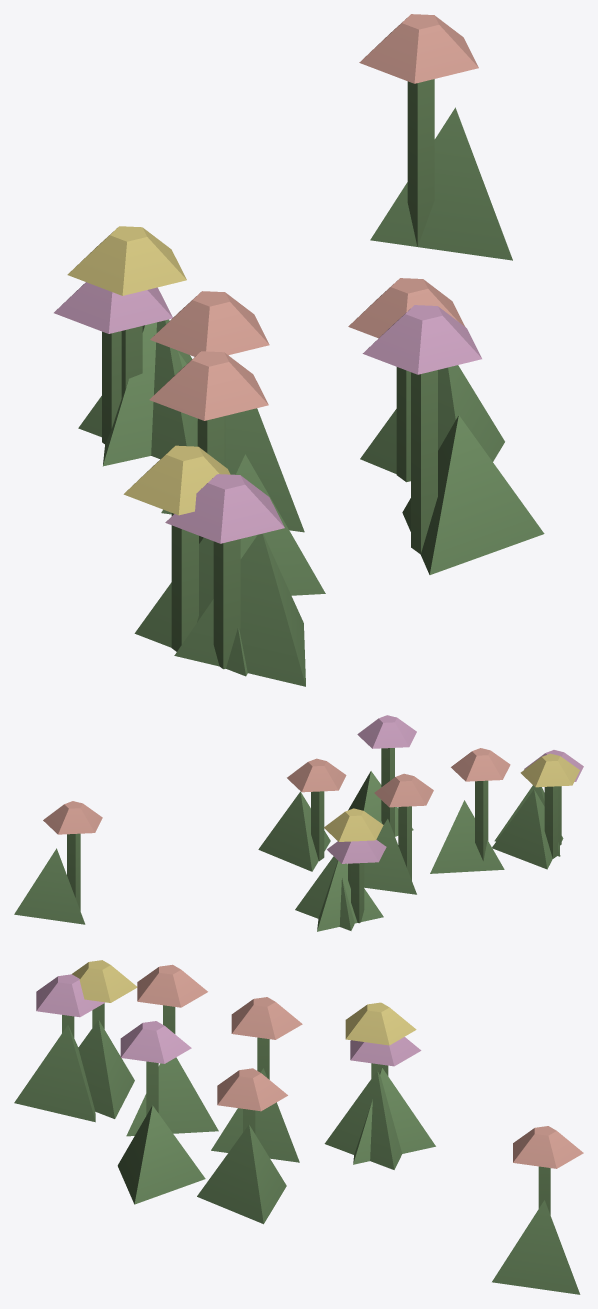
The model's file is iv_flowers.glb.
3 views of the same model, one above another, from view 1: azimuth 30°, elevation 25°; view 2: azimuth 150°, elevation 25°; view 3: azimuth 270°, elevation 25° (orthographic). The views are drawn at different scales.
Visible parts, largest first — view 1: iv_flowers; view 2: iv_flowers; view 3: iv_flowers.
Part boxes in pixels (x1,y1,x2,y2): iv_flowers: (54, 14, 544, 686); iv_flowers: (14, 715, 583, 931); iv_flowers: (14, 960, 583, 1294).
Size of the model in its own units: 2.15 by 0.6591 by 2.32.
